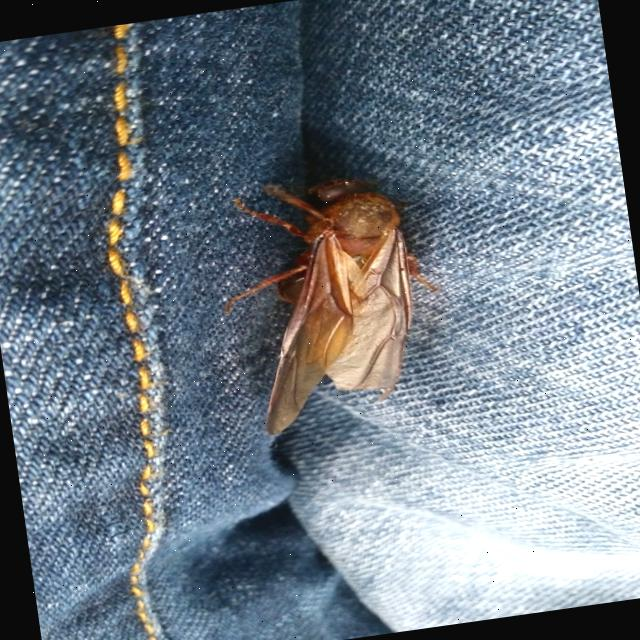Alive-Female-Alate: (207, 162, 456, 440)
